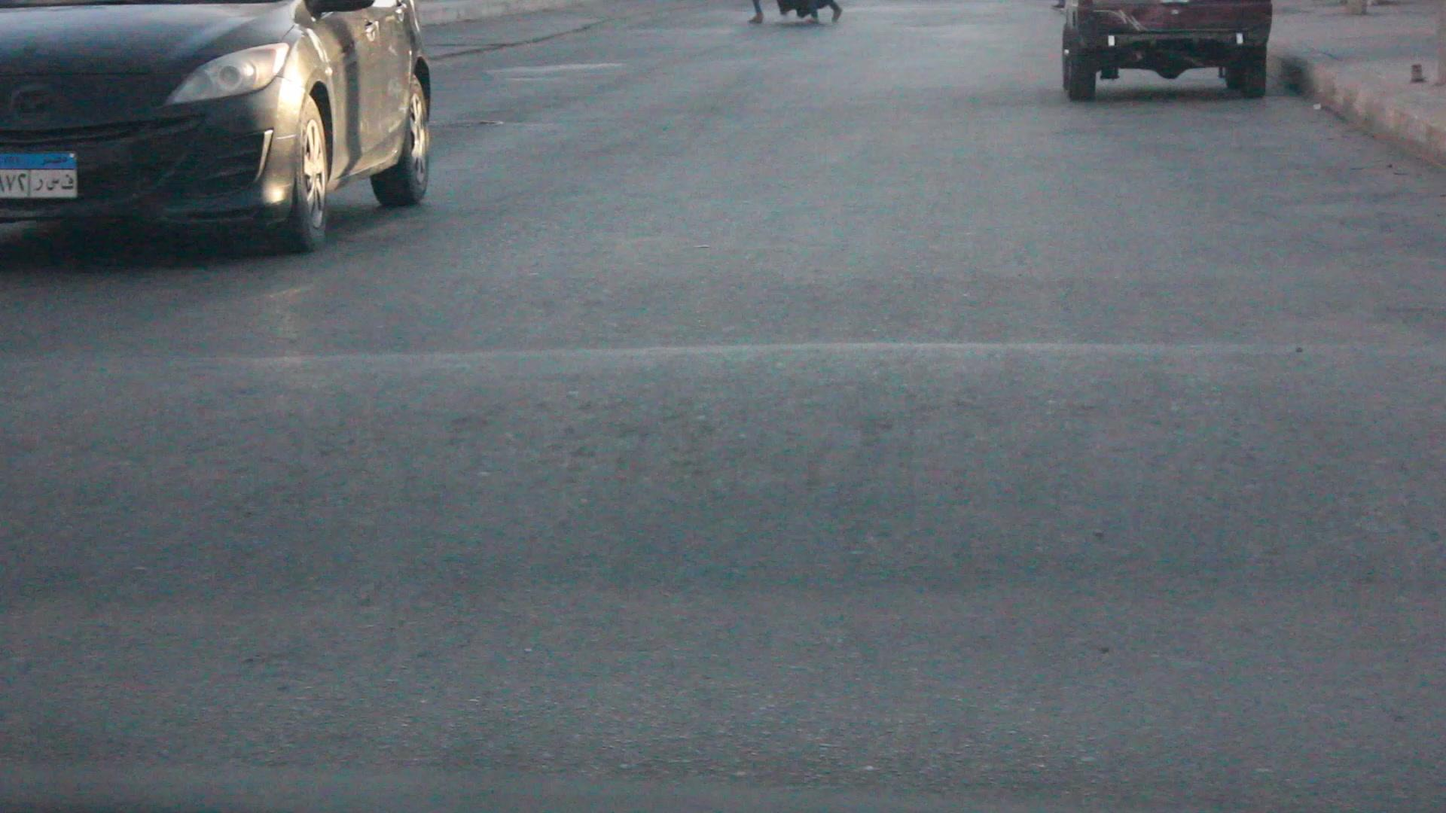Bump: (11, 343, 1446, 598)
